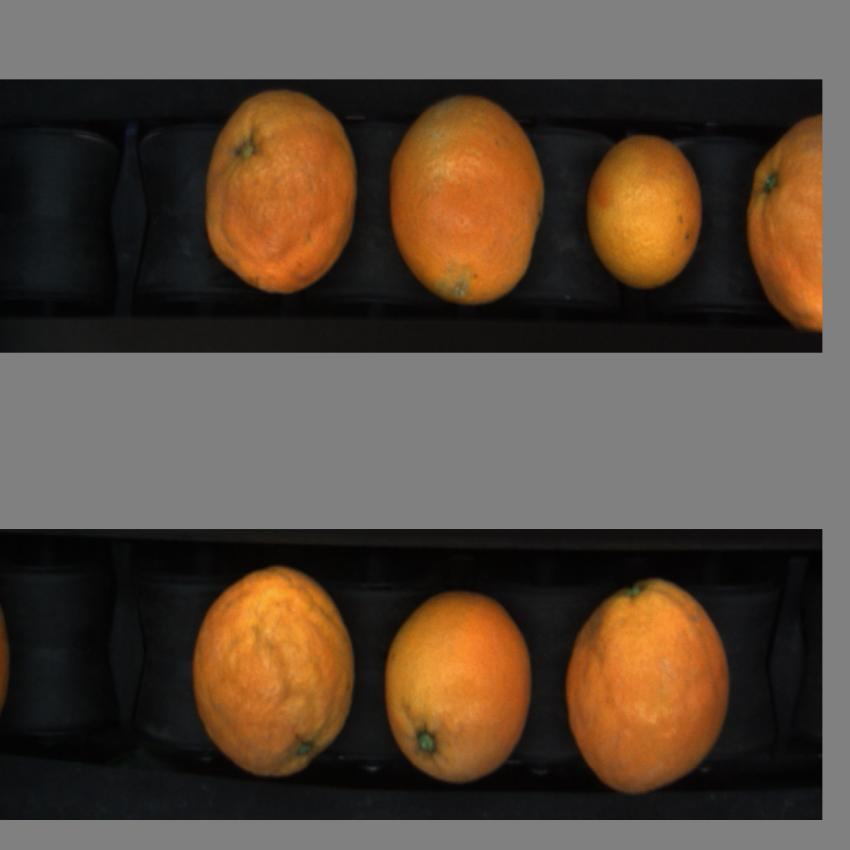Buen estado: (568, 562, 740, 794), (384, 89, 551, 319), (192, 573, 353, 772), (382, 591, 536, 782), (581, 114, 708, 294), (750, 117, 825, 347)
Mal estado: (205, 91, 363, 292)
